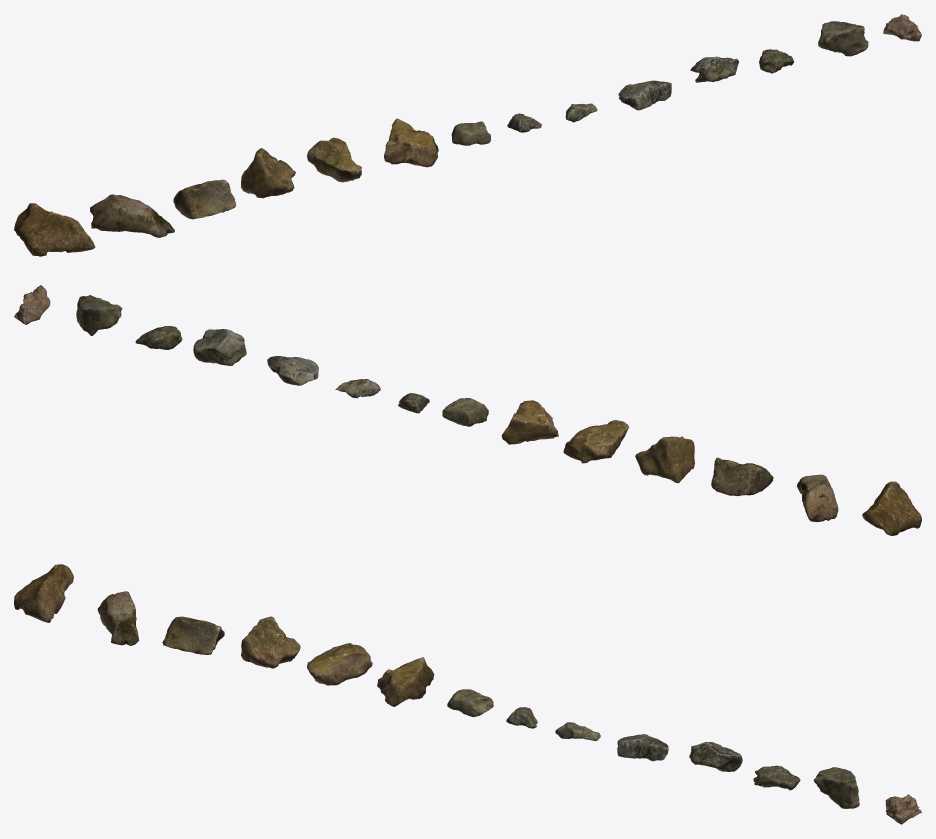
Rendered from rocks.glb.
3 renders of one model, top to bottom at view 1: azimuth 30°, elevation 25°; view 2: azimuth 150°, elevation 25°; view 3: azimuth 330°, elevation 25°, orthographic.
Parts seen in each view (by area): view 1: Rock_0, Rock_1, Rock_5, Rock_3, Rock_2, Rock_4, Rock_12, Rock_9, Rock_10, Rock_6, Rock_13, Rock_11; view 2: Rock_3, Rock_0, Rock_4, Rock_2, Rock_5, Rock_10, Rock_1, Rock_12, Rock_9, Rock_6, Rock_13, Rock_11 (+1 smaller); view 3: Rock_0, Rock_3, Rock_4, Rock_5, Rock_2, Rock_1, Rock_12, Rock_10, Rock_9, Rock_6, Rock_11, Rock_13 (+1 smaller).
Boxes of the visible parts, <box> form: Rock_0: <box>14,203,95,256</box>; Rock_1: <box>90,194,174,237</box>; Rock_5: <box>384,118,438,167</box>; Rock_3: <box>241,148,295,198</box>; Rock_2: <box>173,179,236,219</box>; Rock_4: <box>307,137,361,182</box>; Rock_12: <box>818,21,868,56</box>; Rock_9: <box>618,80,671,110</box>; Rock_10: <box>690,56,738,82</box>; Rock_6: <box>451,121,490,145</box>; Rock_13: <box>883,14,921,41</box>; Rock_11: <box>759,49,793,73</box>; Rock_3: <box>635,436,694,483</box>; Rock_0: <box>862,481,921,535</box>; Rock_4: <box>563,420,628,463</box>; Rock_2: <box>711,457,773,496</box>; Rock_5: <box>501,400,558,444</box>; Rock_10: <box>193,329,246,365</box>; Rock_1: <box>797,474,838,522</box>; Rock_12: <box>76,295,122,335</box>; Rock_9: <box>267,356,318,385</box>; Rock_6: <box>442,398,488,426</box>; Rock_13: <box>14,285,50,324</box>; Rock_11: <box>135,326,182,349</box>; Rock_0: <box>14,564,73,622</box>; Rock_3: <box>241,616,300,668</box>; Rock_4: <box>307,643,372,685</box>; Rock_5: <box>377,657,434,706</box>; Rock_2: <box>162,616,224,654</box>; Rock_1: <box>97,591,138,645</box>; Rock_12: <box>813,767,859,808</box>; Rock_10: <box>689,742,742,771</box>; Rock_9: <box>617,734,668,761</box>; Rock_6: <box>447,689,493,717</box>; Rock_11: <box>753,765,800,790</box>; Rock_13: <box>885,794,921,824</box>.
Size of the model in its own units: 39.69 by 1.76 by 3.36.
Materials: 3 (3 with a texture image).
